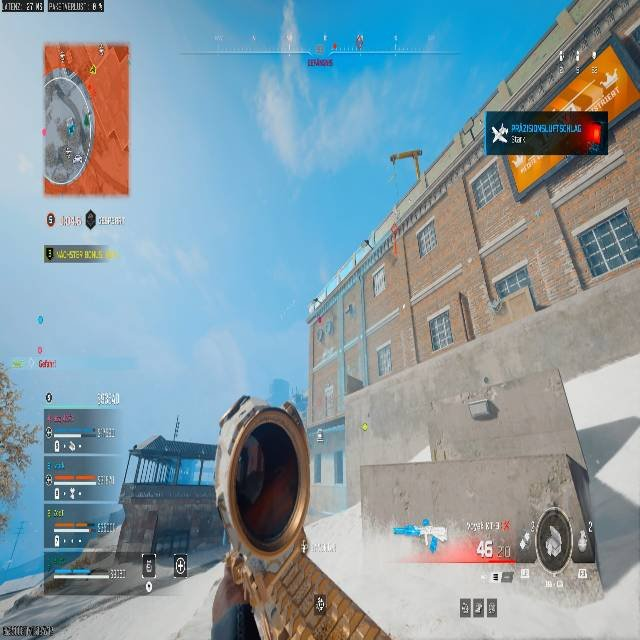player: (172, 554, 188, 580)
